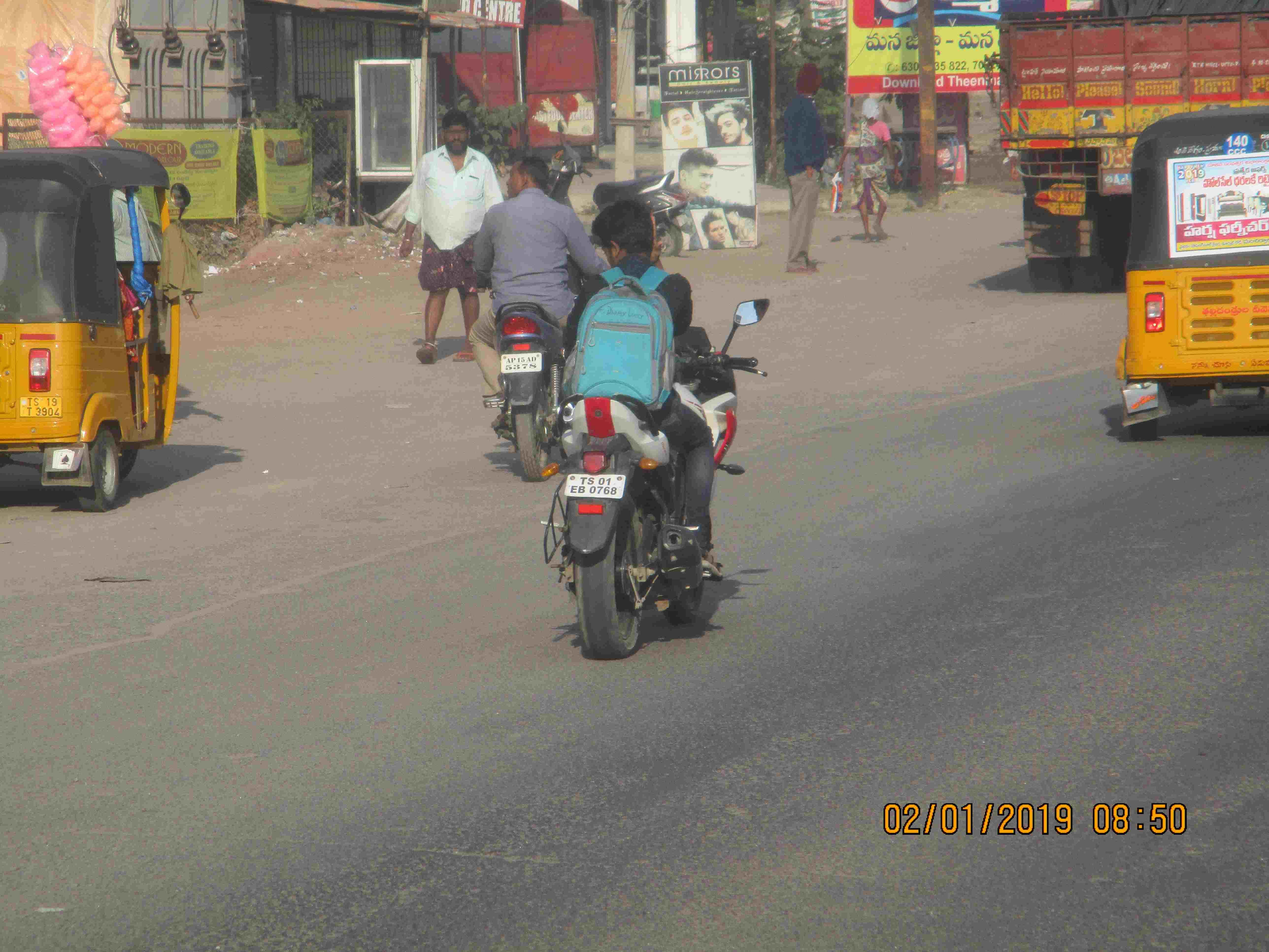plate: (559, 470, 631, 502), (498, 351, 550, 374)
